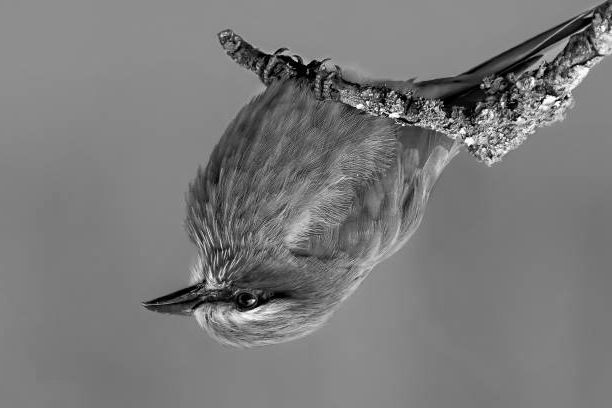Bird: (139, 20, 588, 351)
